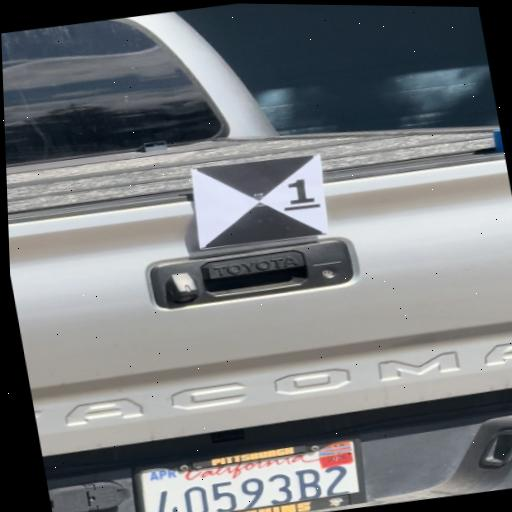target1: (190, 152, 327, 251)
